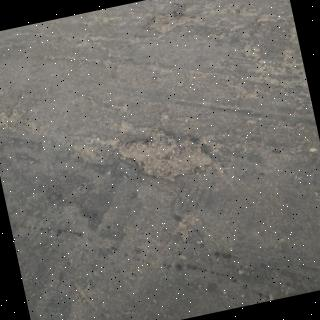pothole: (118, 130, 212, 182)
